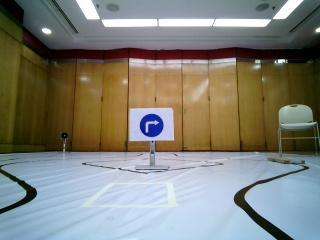right: (127, 107, 173, 142)
